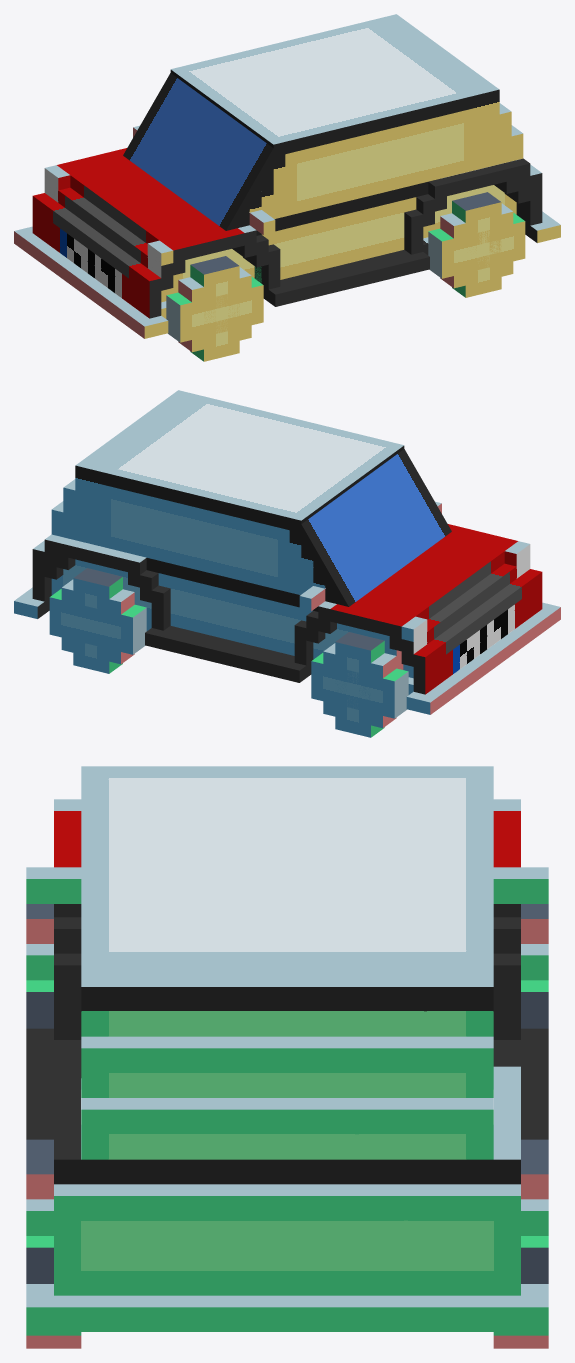
The model's file is car.gltf.
The picture shows the model from 3 angles, top to bottom: view 1: azimuth 30°, elevation 25°; view 2: azimuth 150°, elevation 25°; view 3: azimuth 270°, elevation 25°; orthographic projection. The views are drawn at different scales.
Parts seen in each view (by area): view 1: 0889a60a-3663-86e2-1358-9260950b9aa0, a661b1db-73be-b3c3-fffc-64c22247fb4f, d04207bc-c88f-5719-7fe6-3e5a2314e8a5, 801593d9-aba8-5b4c-f6a9-768e99730068, 1a239ce2-f790-b768-6213-66fbc5385138, 071d536c-b60b-5833-7924-f992957b9ef2, c18cce3b-5b83-8615-b885-71ed5a16f89b, 57bfc4f6-e51a-e199-fdc7-d76400e5f297, 091ef778-360f-d381-b377-9dcce3ca68e4, e90b1991-5ef6-7c06-587a-1f0206f1bde2, a8228330-ee4c-3c70-9098-5bdcfd880d91, 25f98e19-6043-cb59-1eef-1435bedf151a (+23 smaller); view 2: 0889a60a-3663-86e2-1358-9260950b9aa0, a661b1db-73be-b3c3-fffc-64c22247fb4f, f39dfa01-1405-8002-2413-44c502b08d8f, 801593d9-aba8-5b4c-f6a9-768e99730068, 3df4081c-4d80-05e2-736d-dc8874d91078, 071d536c-b60b-5833-7924-f992957b9ef2, 0a28517c-0c07-5580-75b7-fbceb65248d1, ed29527a-2e1c-e4e0-e495-08e1d68155b2, cea492f3-afd2-ee31-395b-60f4442fda7d, e90b1991-5ef6-7c06-587a-1f0206f1bde2, 25f98e19-6043-cb59-1eef-1435bedf151a, 702ed2e0-739c-e879-b485-67022841ab79 (+22 smaller); view 3: 0889a60a-3663-86e2-1358-9260950b9aa0, e230d91b-c7fe-d22d-746c-9487a44fe772, 071d536c-b60b-5833-7924-f992957b9ef2, a0e08619-ca90-6327-49e9-c7e4887ae786, ecc423e0-34e2-0463-efbb-ddc6001cba74, f36194c4-fa1c-67d2-094b-222a870b8404, d890ac92-5422-4cdd-cd11-f08ebcbe659d, 0a28517c-0c07-5580-75b7-fbceb65248d1, c18cce3b-5b83-8615-b885-71ed5a16f89b, ecdc3ff3-e777-369f-147c-6ade98576089, 801593d9-aba8-5b4c-f6a9-768e99730068, a8228330-ee4c-3c70-9098-5bdcfd880d91 (+21 smaller).
Part boxes in pixels (bbox=[...]): 0889a60a-3663-86e2-1358-9260950b9aa0: bbox=[170, 20, 475, 156]; a661b1db-73be-b3c3-fffc-64c22247fb4f: bbox=[123, 73, 282, 230]; d04207bc-c88f-5719-7fe6-3e5a2314e8a5: bbox=[285, 108, 475, 216]; 801593d9-aba8-5b4c-f6a9-768e99730068: bbox=[57, 148, 244, 262]; 1a239ce2-f790-b768-6213-66fbc5385138: bbox=[254, 197, 416, 282]; 071d536c-b60b-5833-7924-f992957b9ef2: bbox=[373, 14, 499, 169]; c18cce3b-5b83-8615-b885-71ed5a16f89b: bbox=[263, 249, 429, 306]; 57bfc4f6-e51a-e199-fdc7-d76400e5f297: bbox=[166, 277, 263, 342]; 091ef778-360f-d381-b377-9dcce3ca68e4: bbox=[428, 213, 525, 278]; e90b1991-5ef6-7c06-587a-1f0206f1bde2: bbox=[32, 208, 161, 318]; a8228330-ee4c-3c70-9098-5bdcfd880d91: bbox=[452, 192, 501, 297]; 25f98e19-6043-cb59-1eef-1435bedf151a: bbox=[32, 193, 173, 293]; 0889a60a-3663-86e2-1358-9260950b9aa0: bbox=[99, 396, 404, 532]; a661b1db-73be-b3c3-fffc-64c22247fb4f: bbox=[292, 449, 451, 606]; f39dfa01-1405-8002-2413-44c502b08d8f: bbox=[99, 484, 289, 592]; 801593d9-aba8-5b4c-f6a9-768e99730068: bbox=[330, 524, 517, 638]; 3df4081c-4d80-05e2-736d-dc8874d91078: bbox=[51, 559, 403, 669]; 071d536c-b60b-5833-7924-f992957b9ef2: bbox=[75, 390, 201, 545]; 0a28517c-0c07-5580-75b7-fbceb65248d1: bbox=[145, 625, 311, 682]; ed29527a-2e1c-e4e0-e495-08e1d68155b2: bbox=[49, 589, 146, 654]; cea492f3-afd2-ee31-395b-60f4442fda7d: bbox=[311, 653, 408, 718]; e90b1991-5ef6-7c06-587a-1f0206f1bde2: bbox=[413, 584, 542, 694]; 25f98e19-6043-cb59-1eef-1435bedf151a: bbox=[401, 569, 542, 669]; 702ed2e0-739c-e879-b485-67022841ab79: bbox=[335, 632, 384, 737]; 0889a60a-3663-86e2-1358-9260950b9aa0: bbox=[81, 766, 493, 963]; e230d91b-c7fe-d22d-746c-9487a44fe772: bbox=[54, 1184, 520, 1295]; 071d536c-b60b-5833-7924-f992957b9ef2: bbox=[81, 963, 493, 1036]; a0e08619-ca90-6327-49e9-c7e4887ae786: bbox=[81, 1098, 493, 1182]; ecc423e0-34e2-0463-efbb-ddc6001cba74: bbox=[81, 1036, 493, 1097]; f36194c4-fa1c-67d2-094b-222a870b8404: bbox=[81, 1295, 493, 1331]; d890ac92-5422-4cdd-cd11-f08ebcbe659d: bbox=[54, 1148, 520, 1184]; 0a28517c-0c07-5580-75b7-fbceb65248d1: bbox=[493, 1028, 548, 1139]; c18cce3b-5b83-8615-b885-71ed5a16f89b: bbox=[26, 1028, 81, 1139]; ecdc3ff3-e777-369f-147c-6ade98576089: bbox=[54, 1078, 520, 1136]; 801593d9-aba8-5b4c-f6a9-768e99730068: bbox=[54, 811, 520, 867]; a8228330-ee4c-3c70-9098-5bdcfd880d91: bbox=[26, 1139, 81, 1348].
Bounding box in the file's own units: 35 × 15 × 19.
Materials: 1 (1 with a texture image).
